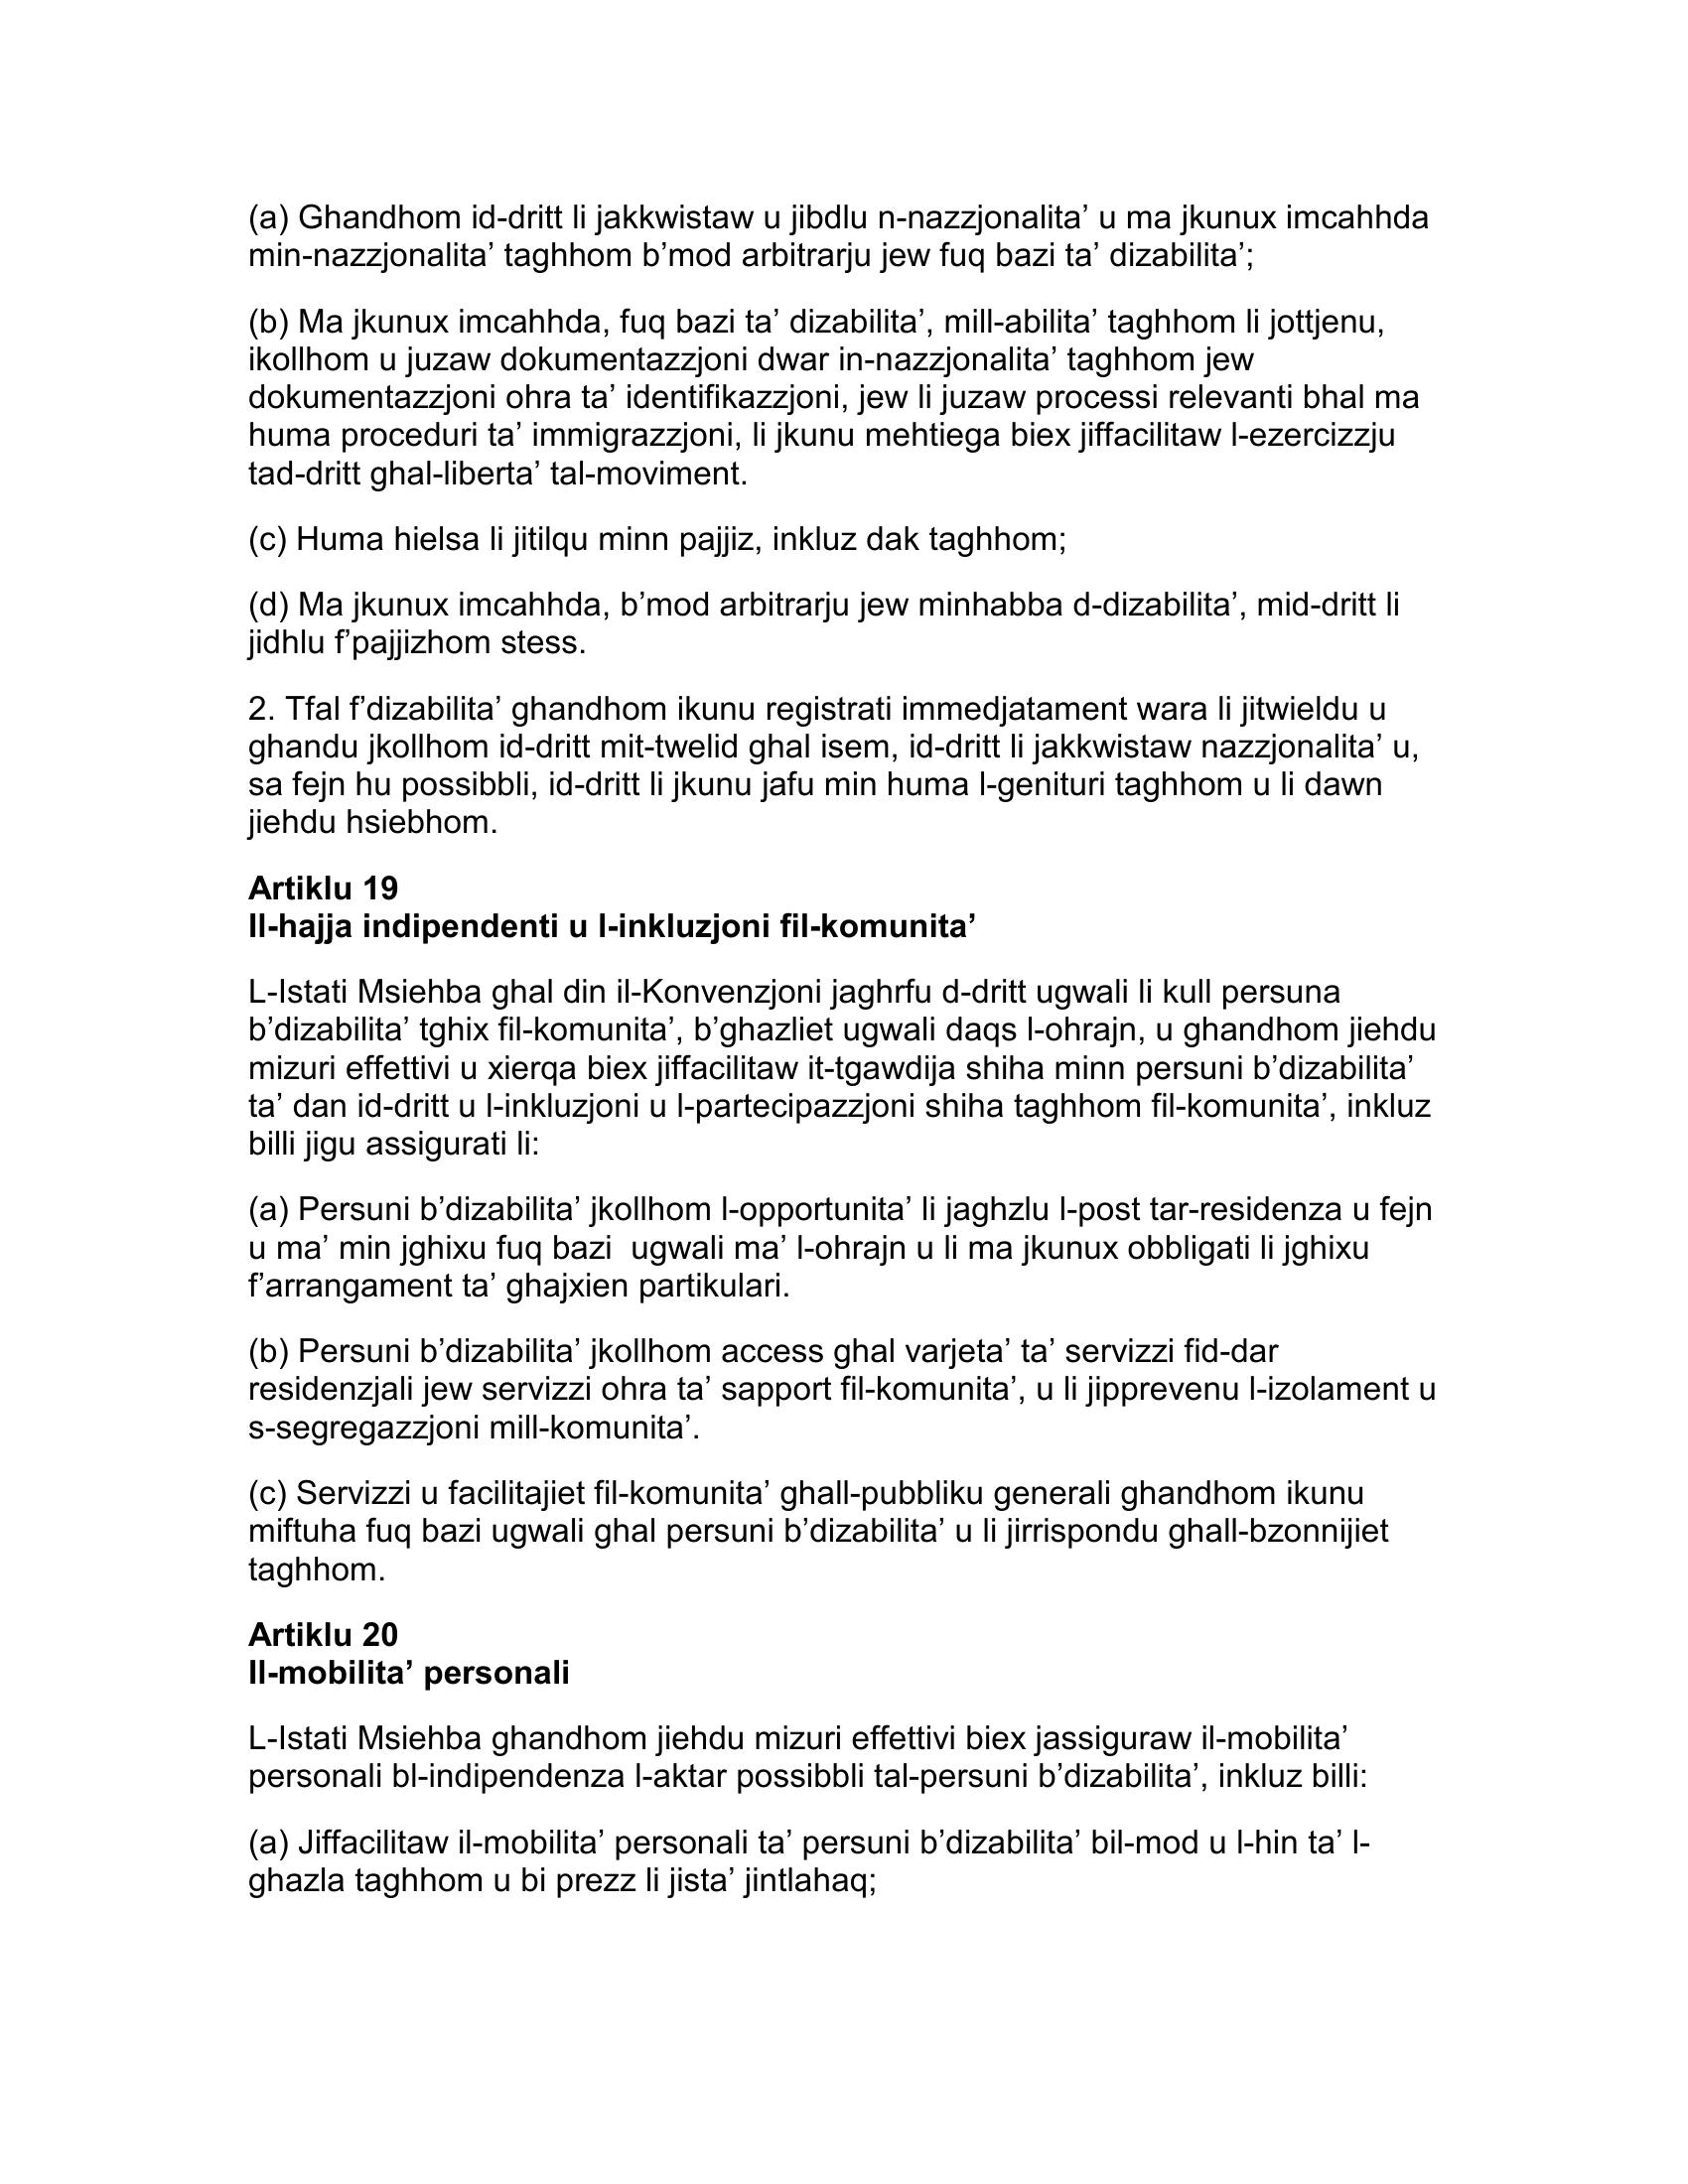text: (220, 170, 1457, 1955)
